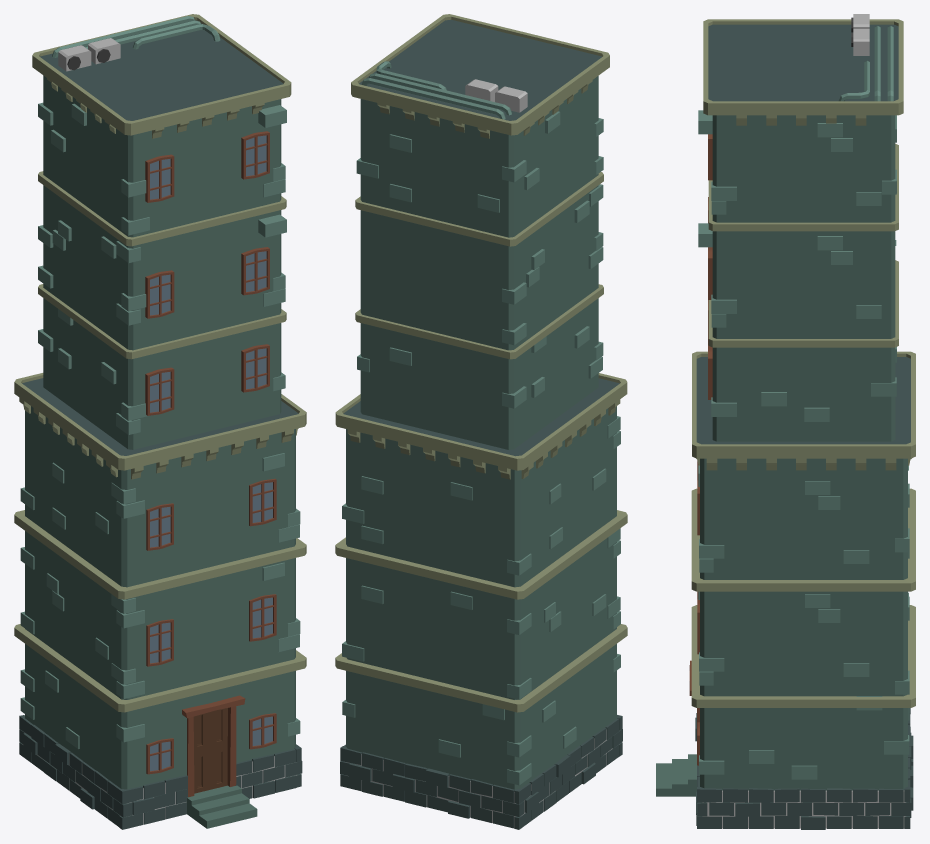
The model's file is 6Story_Stack_Mat.glb.
3 renders of one model, left to right at view 1: azimuth 30°, elevation 25°; view 2: azimuth 150°, elevation 25°; view 3: azimuth 270°, elevation 25°, orthographic. The views are drawn at different scales.
Visible parts, largest first — view 1: 6Story_Stack_Mat; view 2: 6Story_Stack_Mat; view 3: 6Story_Stack_Mat.
Boxes of the visible parts, bbox=[...] form: 6Story_Stack_Mat: bbox=[14, 14, 306, 829]; 6Story_Stack_Mat: bbox=[335, 14, 627, 829]; 6Story_Stack_Mat: bbox=[656, 14, 915, 829].
Size of the model in its own units: 2.16 by 7.8 by 2.5.
